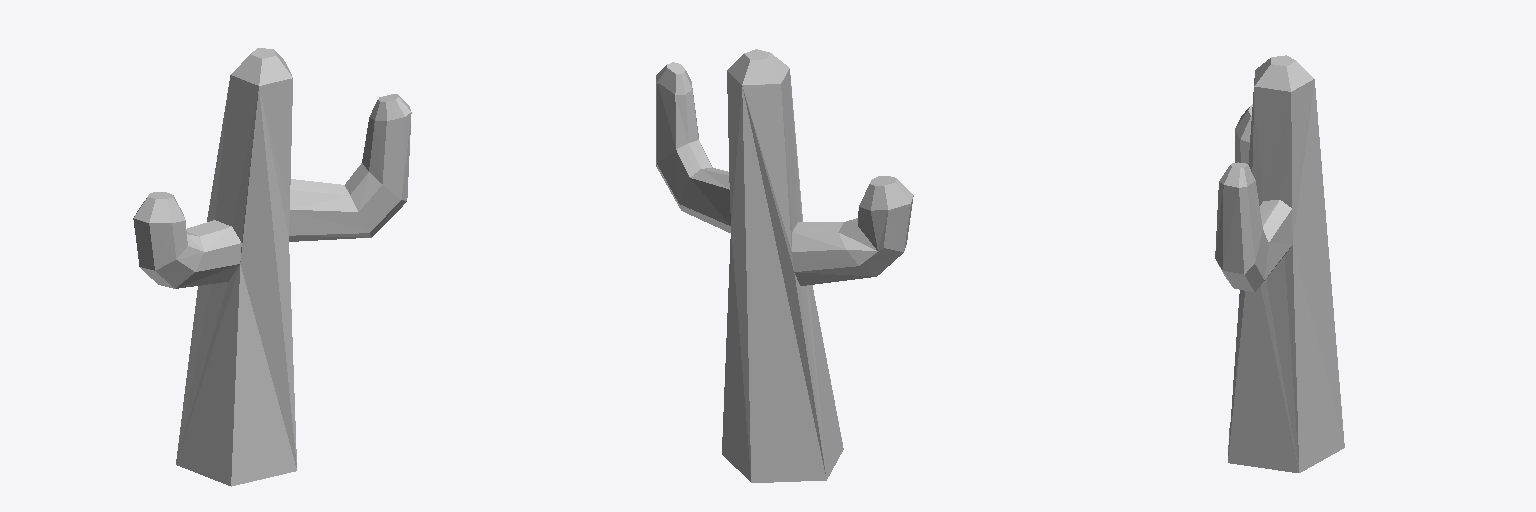
The model's file is cactus.obj.
3 views of the same model, side by side, from view 1: azimuth 30°, elevation 25°; view 2: azimuth 150°, elevation 25°; view 3: azimuth 270°, elevation 25° (orthographic).
Size of the model in its own units: 1.2 by 1.72 by 0.5078.